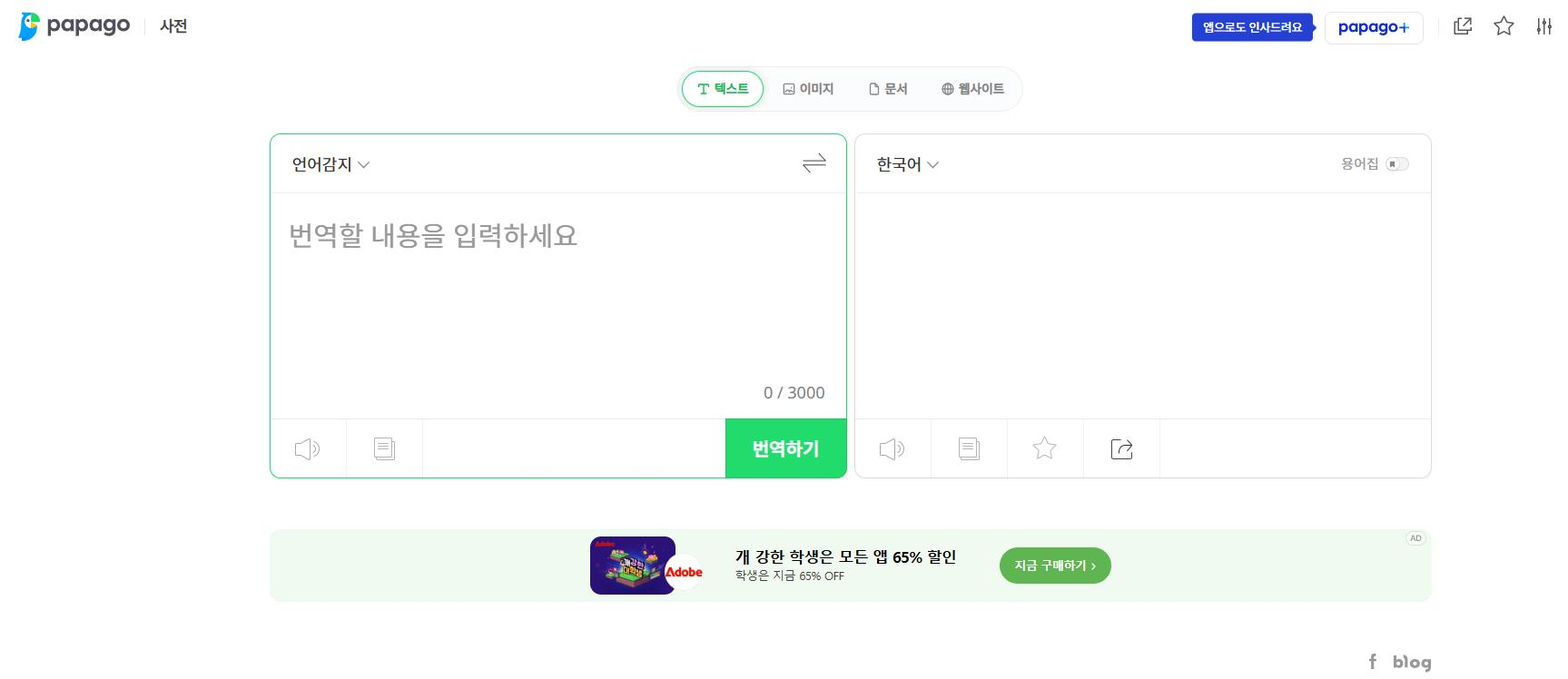button: (722, 419, 848, 480), (925, 67, 1021, 116), (1004, 546, 1111, 583), (687, 67, 767, 115), (1324, 12, 1424, 43), (772, 67, 844, 110), (859, 69, 919, 112), (1104, 431, 1149, 470), (790, 142, 835, 180), (288, 432, 335, 467), (364, 432, 405, 469), (1027, 432, 1069, 467), (1393, 647, 1446, 674), (874, 435, 911, 466), (956, 435, 993, 466), (1446, 15, 1483, 41), (1528, 16, 1558, 40), (1489, 15, 1517, 39), (1362, 649, 1386, 676)
checkbox: (1329, 148, 1421, 183), (870, 148, 953, 185), (288, 148, 377, 177)
input_field: (275, 192, 841, 411)
popup: (271, 529, 1432, 604), (1193, 14, 1320, 45)
